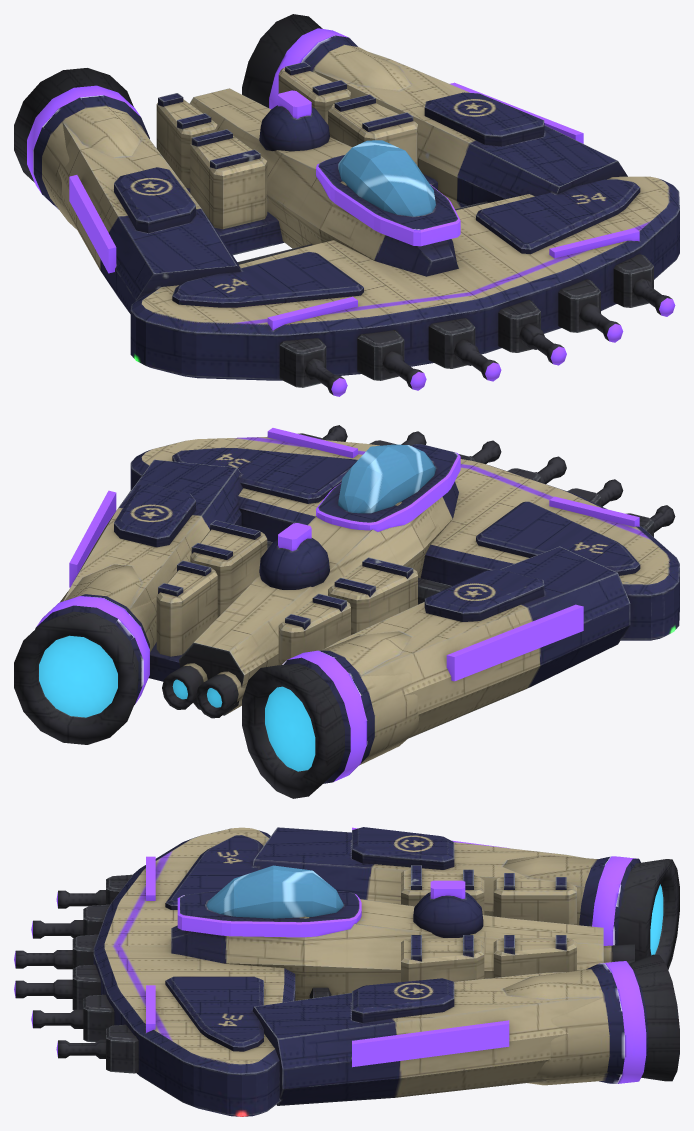
The model's file is Nomad.glb.
3 views of the same model, one above another, from view 1: azimuth 30°, elevation 25°; view 2: azimuth 150°, elevation 25°; view 3: azimuth 270°, elevation 25° (orthographic). The views are drawn at different scales.
Visible parts, largest first — view 1: Nomad; view 2: Nomad; view 3: Nomad.
Part boxes in pixels (box(x1,y1,x2,y2)): Nomad: box(14, 14, 679, 396); Nomad: box(14, 425, 679, 798); Nomad: box(14, 827, 679, 1116).
Size of the model in its own units: 0.7538 by 0.2283 by 0.8648.
Materials: 6 (6 with a texture image).
